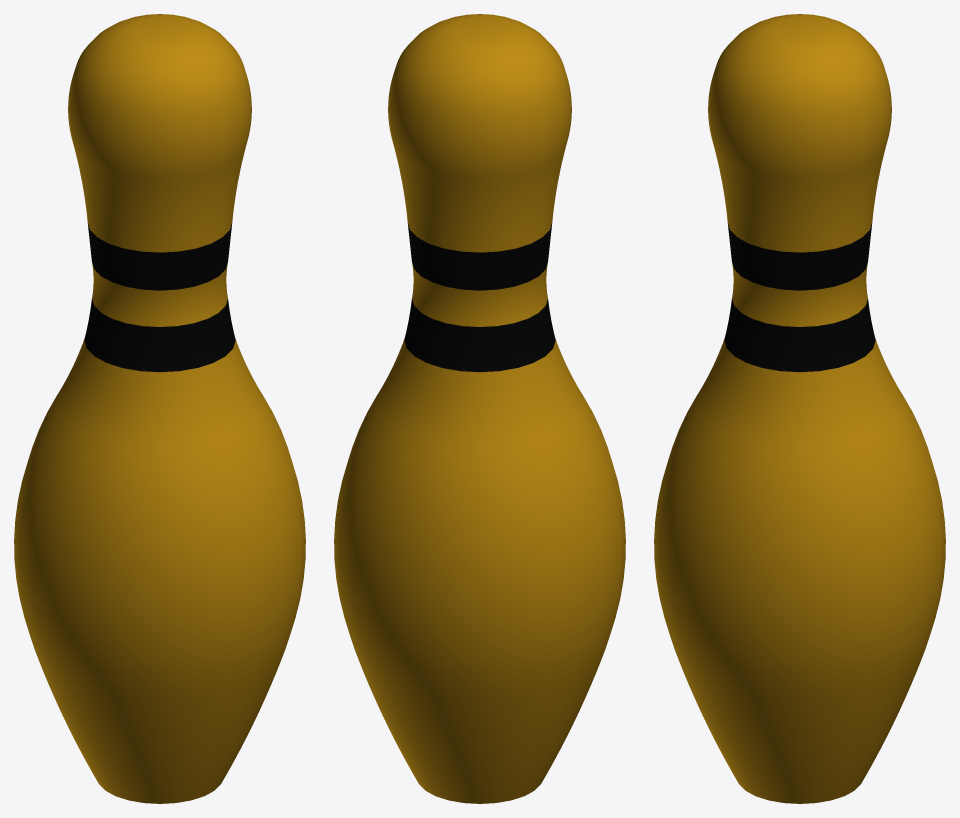
Rendered from birillo-old.dae.
3 views of the same model, side by side, from view 1: azimuth 30°, elevation 25°; view 2: azimuth 150°, elevation 25°; view 3: azimuth 270°, elevation 25° (orthographic).
Visible parts, largest first — view 1: Model; view 2: Model; view 3: Model.
Part boxes in pixels (<box>): Model: <box>14,14,305,803</box>; Model: <box>334,14,625,803</box>; Model: <box>654,14,945,803</box>.
Bounding box in the file's own units: 2.03 × 2.03 × 5.75.
